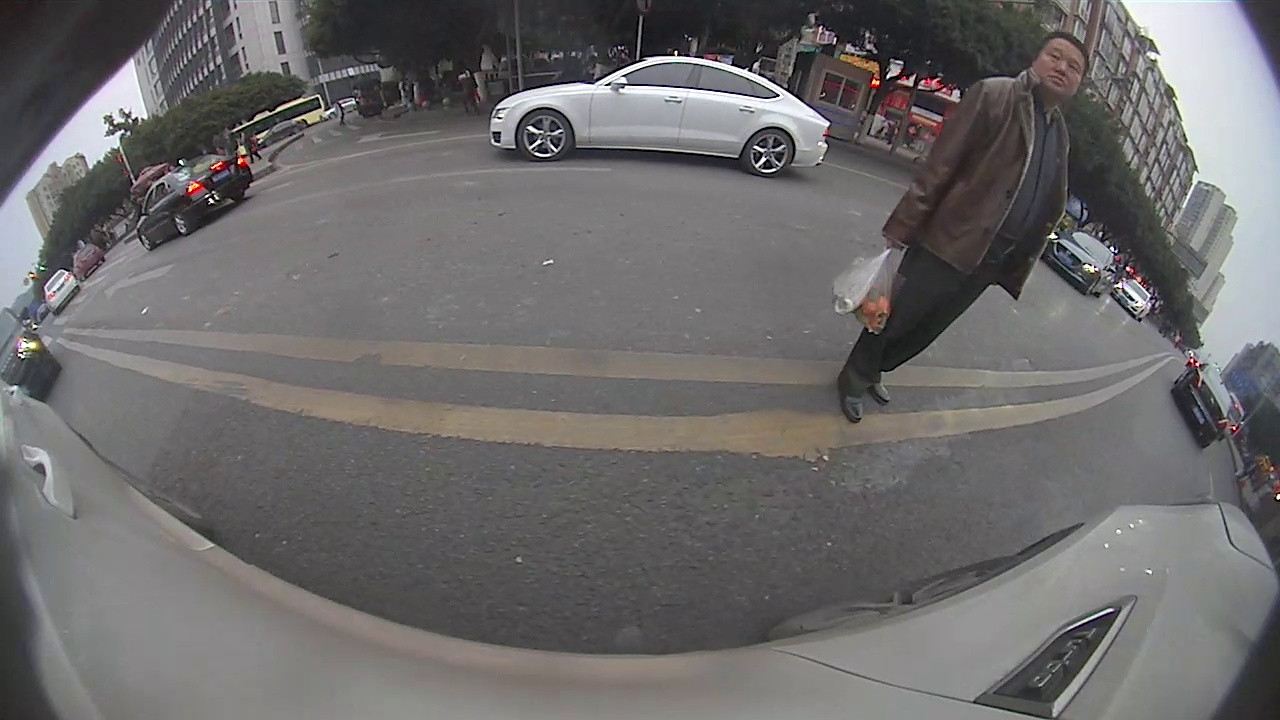car: (488, 54, 832, 178), (136, 152, 255, 254), (1047, 228, 1121, 301), (1170, 362, 1232, 449)
front: (518, 107, 574, 164), (137, 230, 154, 253)
person: (837, 35, 1091, 421)
rear: (746, 126, 794, 179), (172, 212, 189, 237)
